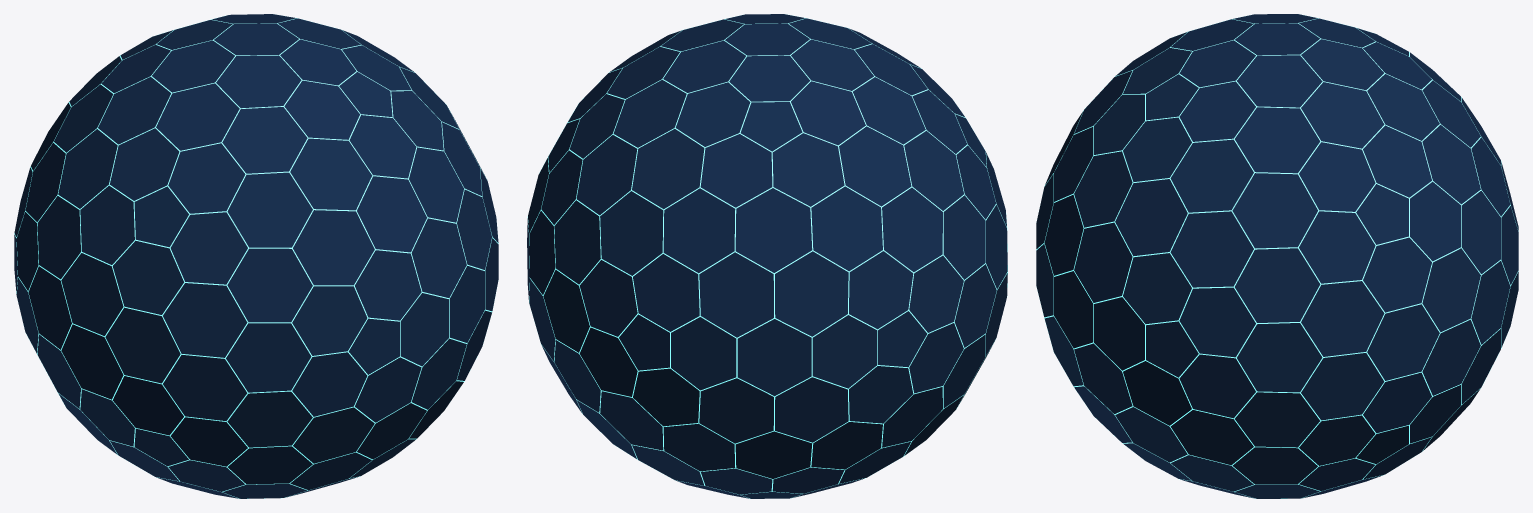
The model's file is dome.glb.
3 renders of one model, left to right at view 1: azimuth 30°, elevation 25°; view 2: azimuth 150°, elevation 25°; view 3: azimuth 270°, elevation 25°, orthographic.
Parts seen in each view (by area): view 1: Dome; view 2: Dome; view 3: Dome.
Boxes of the visible parts, left/top/right/bottom form: Dome: left=14, top=14, right=498, bottom=498; Dome: left=527, top=14, right=1007, bottom=498; Dome: left=1036, top=14, right=1518, bottom=498.
Bounding box in the file's own units: 2.4 × 2.4 × 2.42.
